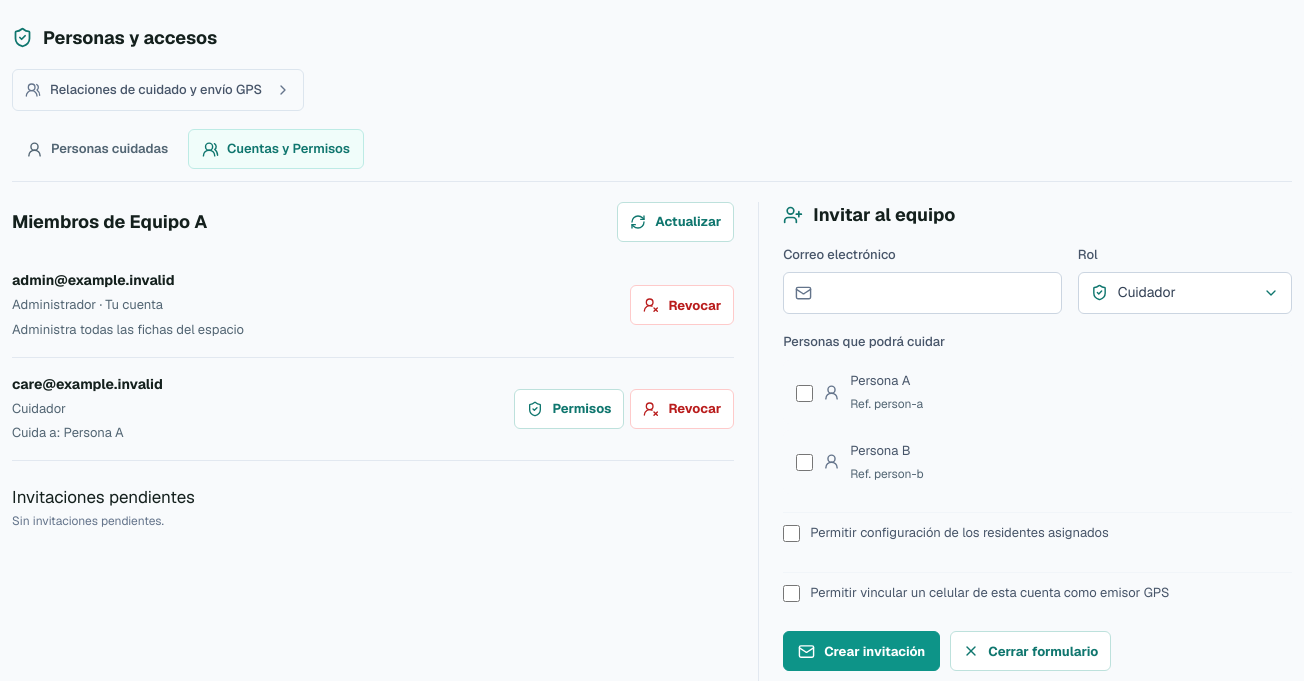
it: invites carry explicit role, space, resident and independent GPS capability
Check: the checkbox labelled "Persona A" is shown, box top-left (796, 385), bottom-right (813, 402)
In the field labelled "Correo electrónico": (922, 293) top-left (783, 272), bottom-right (1062, 314), type "new@example.invalid"
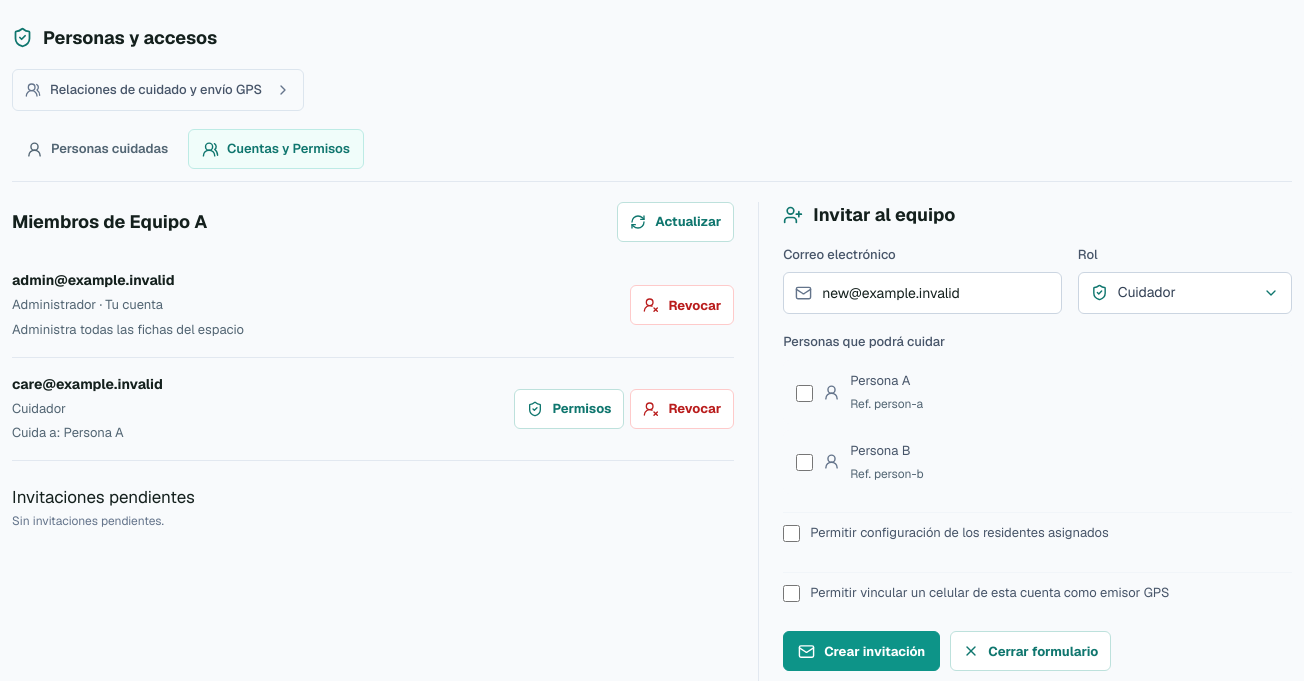
Click the checkbox labelled "Persona A": (805, 393) top-left (796, 385), bottom-right (813, 402)
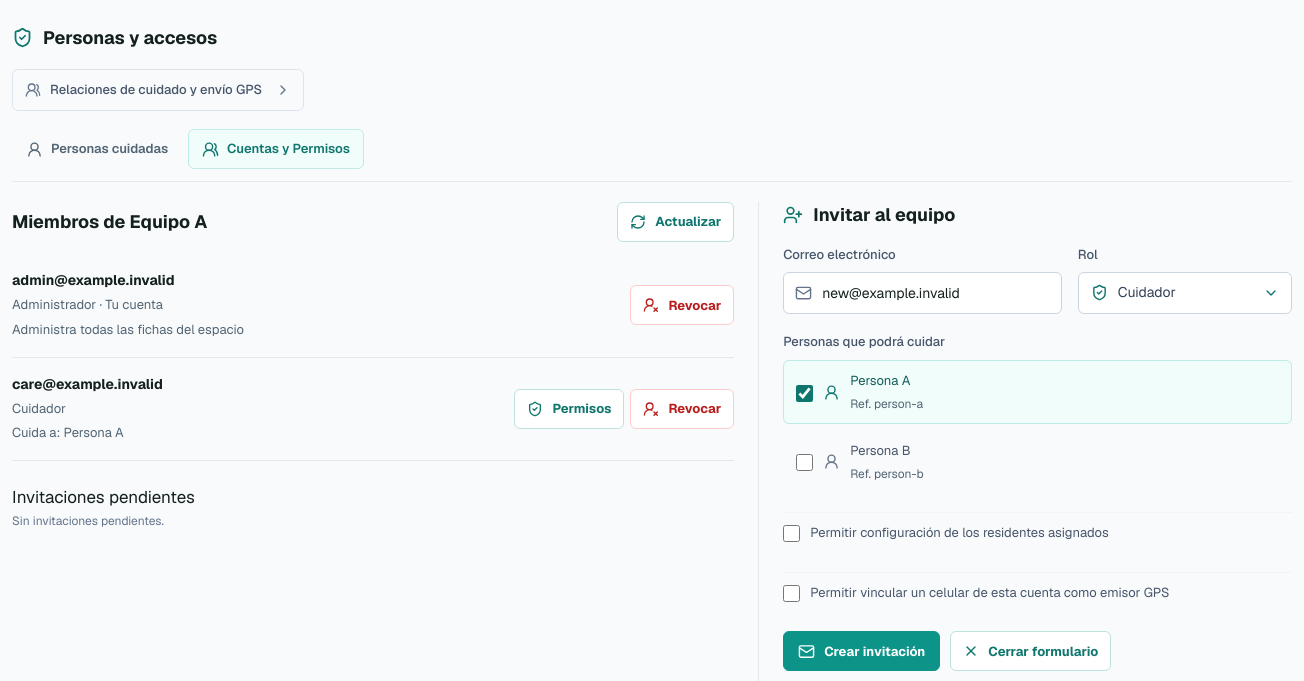
Click the checkbox labelled "Permitir vincular un celular de esta cuenta como emisor GPS": (792, 593) top-left (783, 585), bottom-right (800, 602)
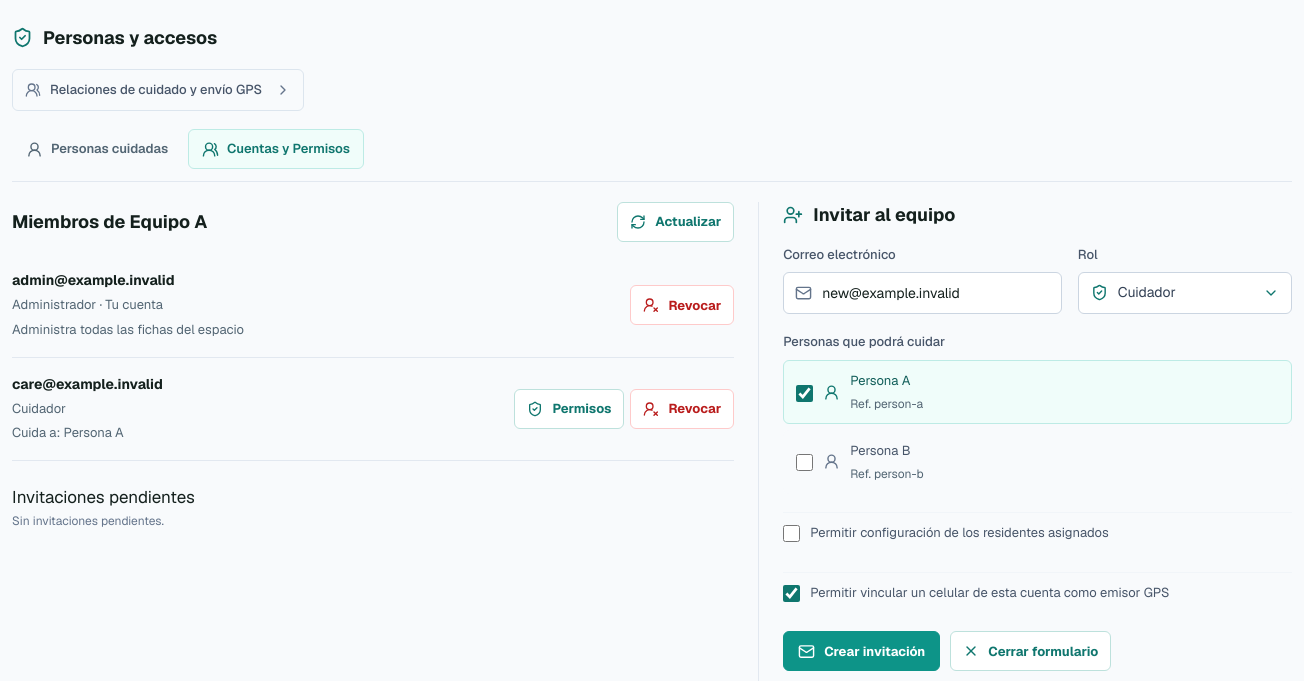
Click the button "Crear invitación": (862, 651) top-left (783, 631), bottom-right (940, 671)
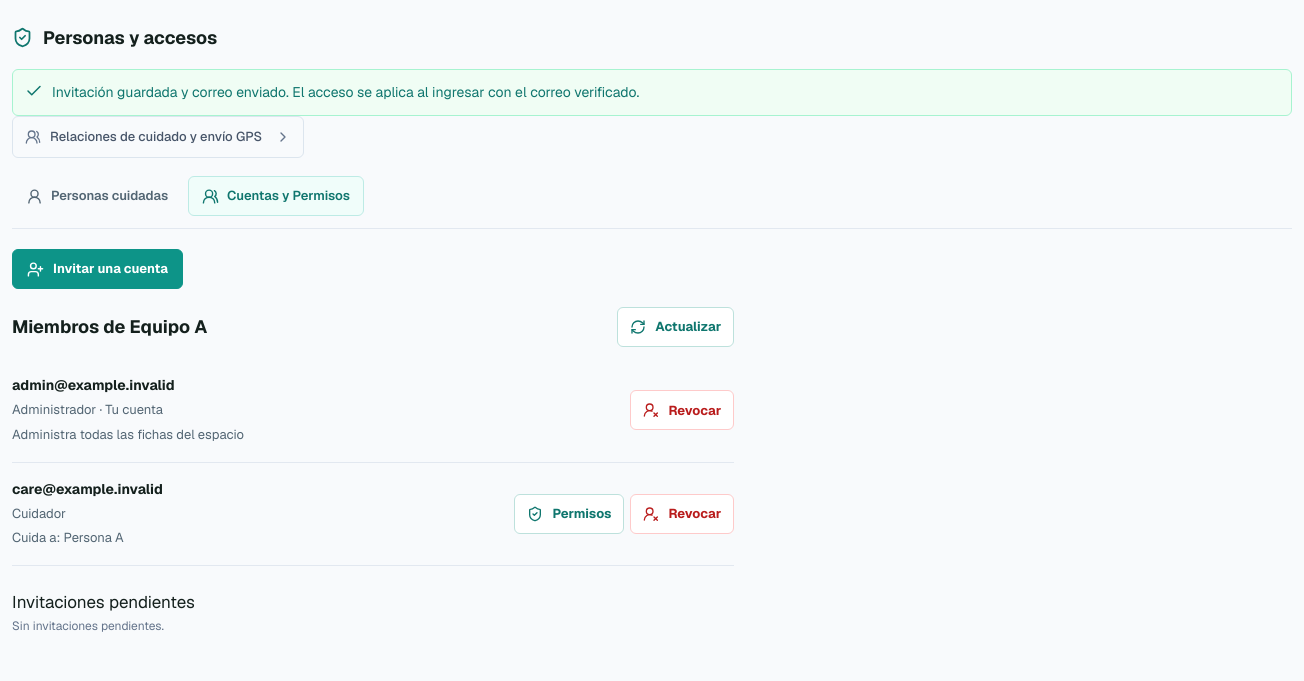
Check: the text "Invitación guardada y correo enviado" is shown, box top-left (52, 83), bottom-right (639, 101)
